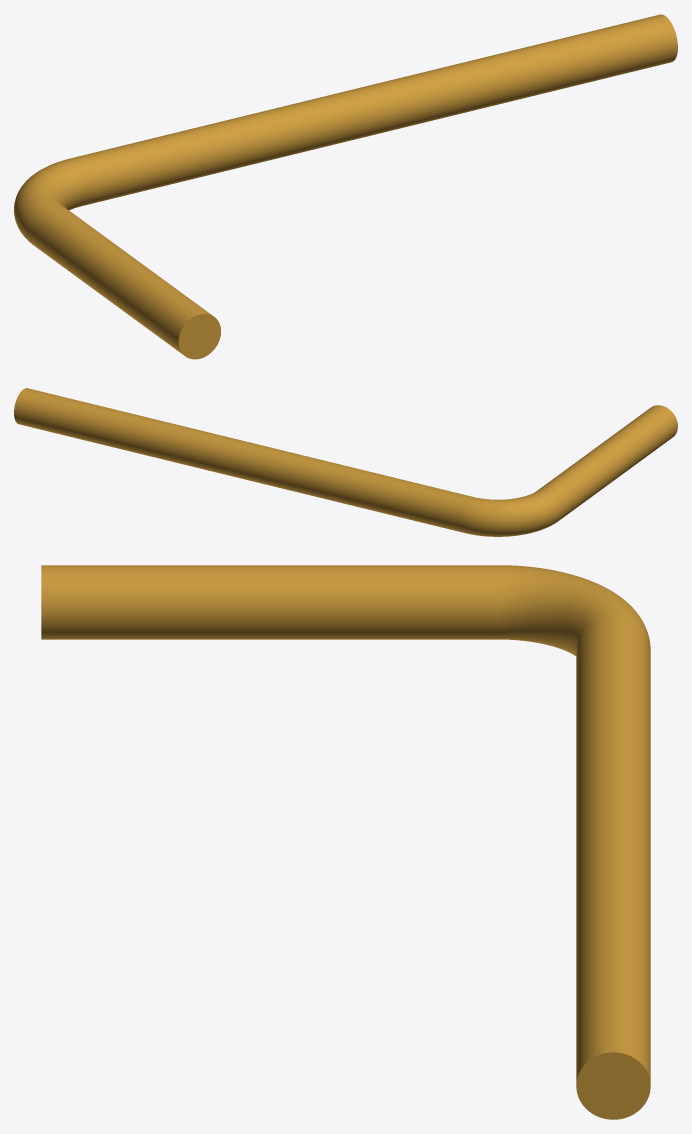
File: WIRE10X20.obj
3 views of the same model, one above another, from view 1: azimuth 30°, elevation 25°; view 2: azimuth 150°, elevation 25°; view 3: azimuth 270°, elevation 25° (orthographic). The views are drawn at different scales.
Visible parts, largest first — view 1: Solid1; view 2: Solid1; view 3: Solid1.
Part boxes in pixels (bbox=[...]): Solid1: bbox=[14, 14, 677, 359]; Solid1: bbox=[14, 388, 677, 536]; Solid1: bbox=[41, 565, 650, 1119].
Size of the model in its own units: 20.65 by 1.3 by 10.65.
